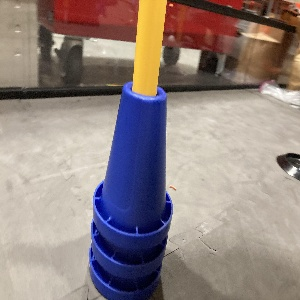Blue_3: (85, 74, 175, 299)
